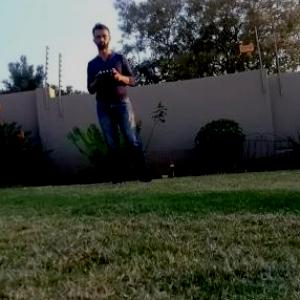follow: (84, 17, 159, 188)
